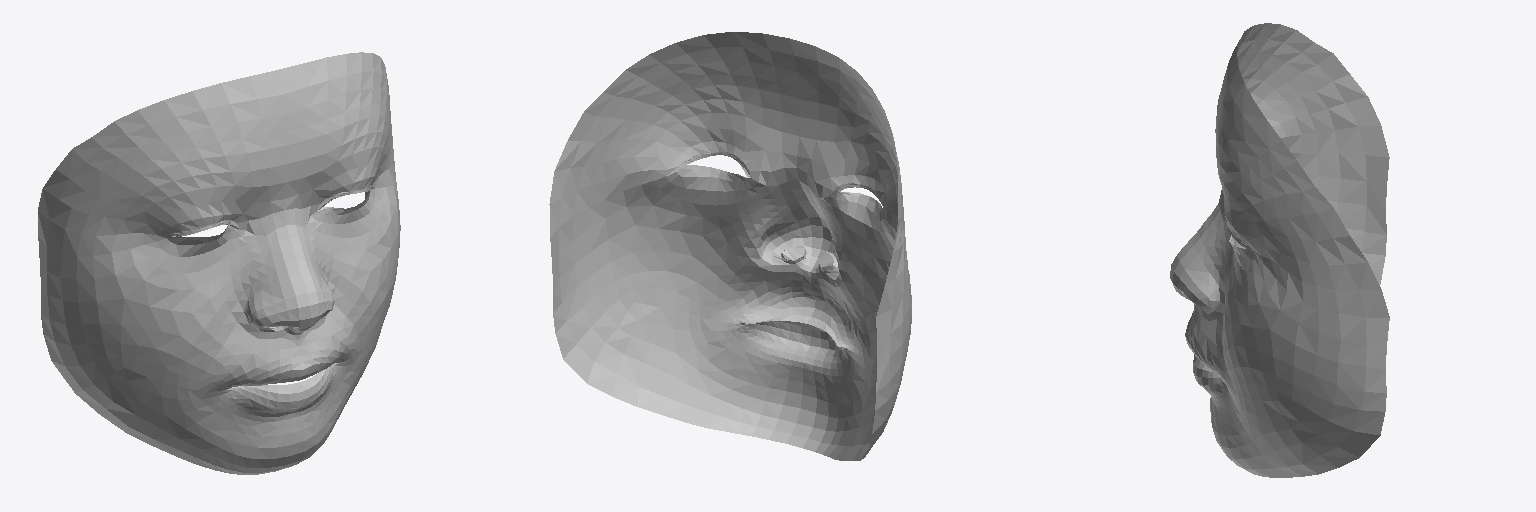
Rendered from eyeSquint_R.obj.
3 renders of one model, left to right at view 1: azimuth 30°, elevation 25°; view 2: azimuth 150°, elevation 25°; view 3: azimuth 270°, elevation 25°, orthographic.
Parts seen in each view (by area): view 1: default; view 2: default; view 3: default.
Part boxes in pixels (x1,y1,x2,y2): default: (38, 52, 400, 474); default: (549, 32, 911, 460); default: (1170, 23, 1389, 477).
Bounding box in the file's own units: 0.1624 × 0.1851 × 0.0913.